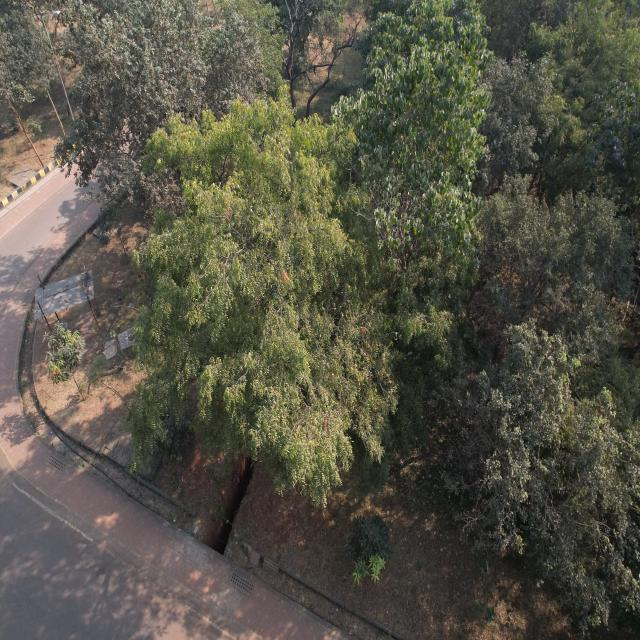Neem-Tree: (173, 125, 361, 490)
